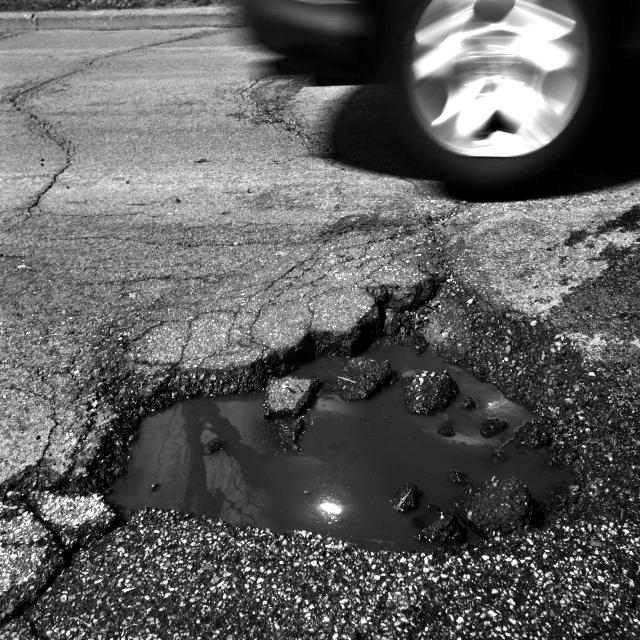pathole: (0, 218, 640, 638), (19, 509, 572, 637), (109, 302, 279, 405), (345, 226, 446, 332), (436, 326, 469, 352), (550, 397, 575, 411)
